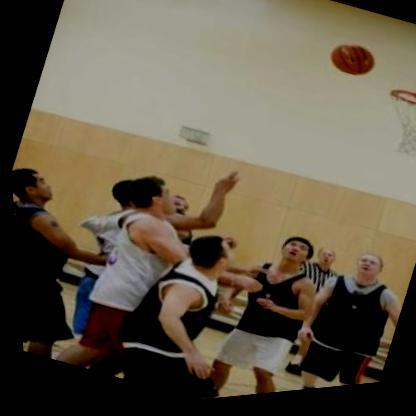basketball: (321, 38, 382, 94)
